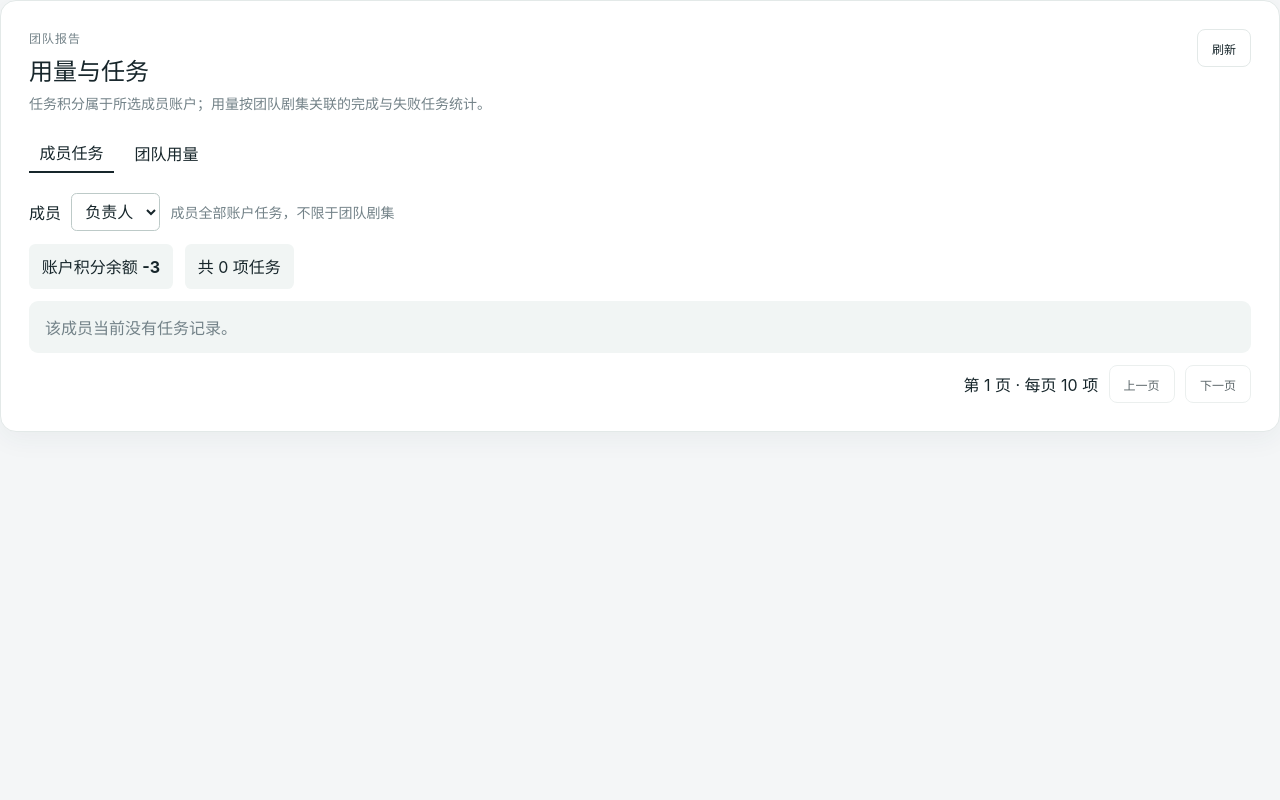
TeamReportingPanel › returns to the team-usage overview when its type tab is clicked from series or model detail
Click the tab "团队用量": click(167, 153) [124,134,209,172]
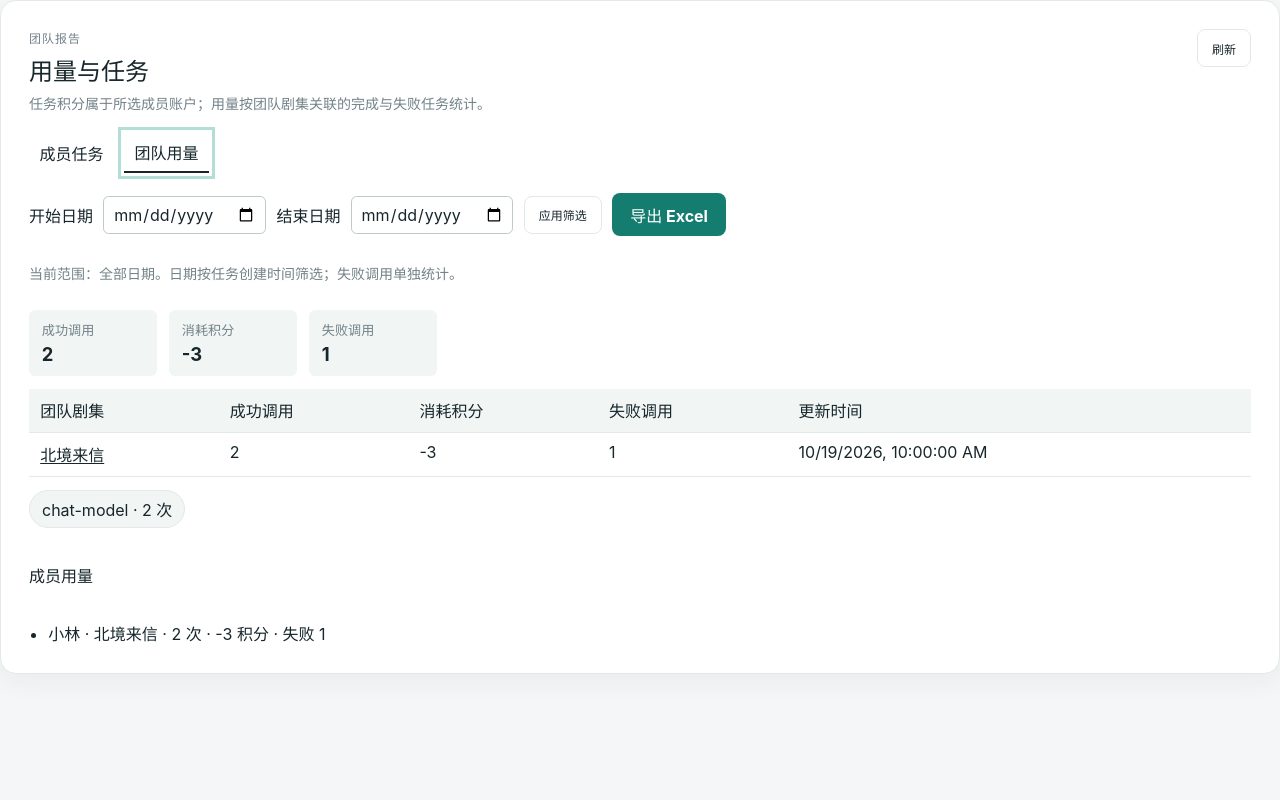
Expected: the table named "团队用量明细" is shown, [29,388,1251,477]
Click the button "北境来信": click(72, 454) [40,442,104,466]
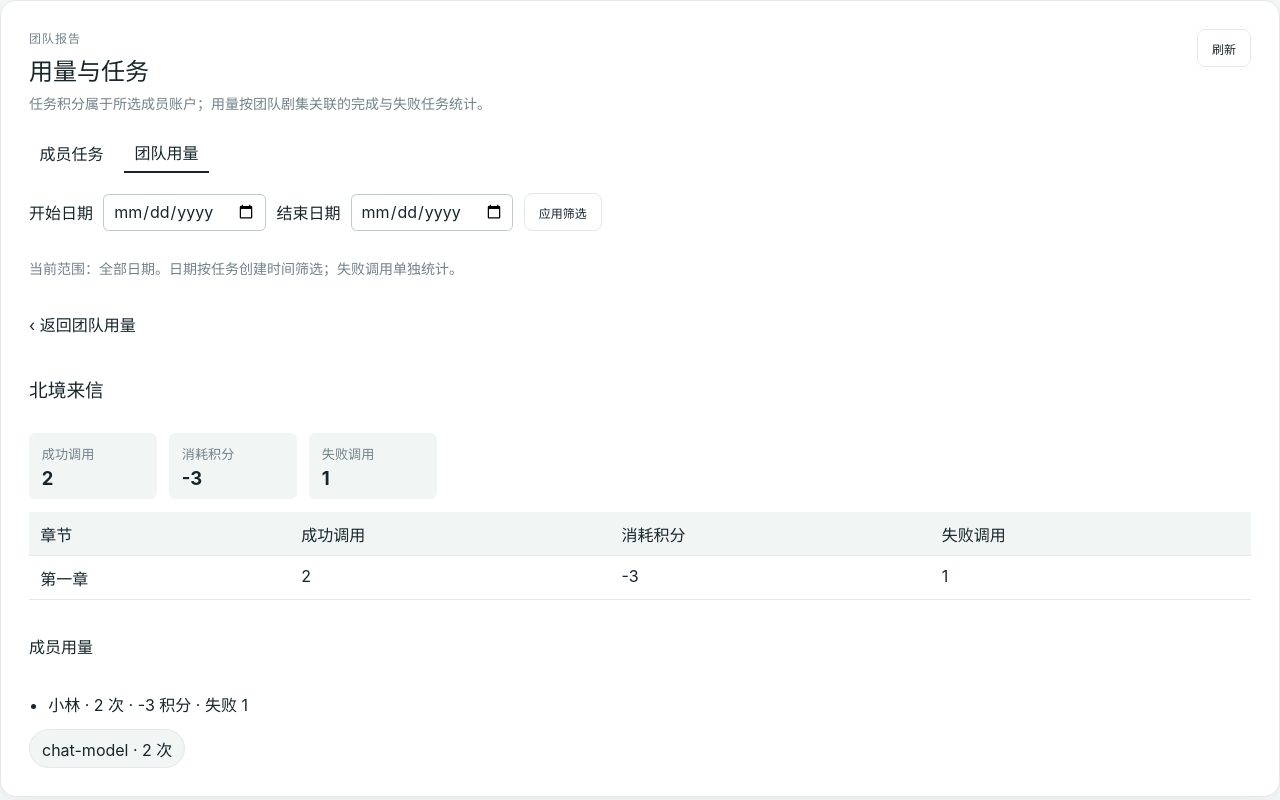
Expected: the heading "北境来信" is shown, [29,379,104,402]
Click the tab "团队用量": click(167, 153) [124,133,209,173]
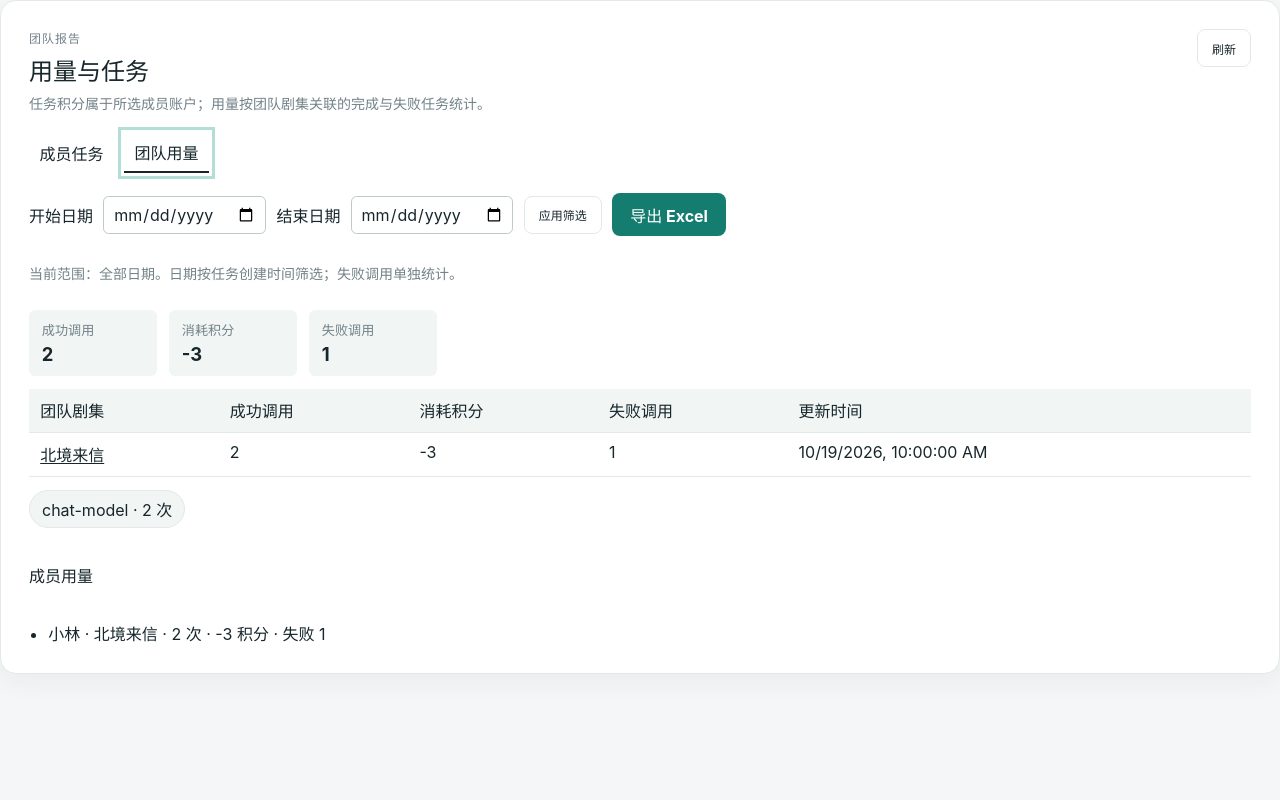
Expected: the table named "团队用量明细" is shown, [29,388,1251,477]
Click the button "北境来信": click(72, 454) [40,442,104,466]
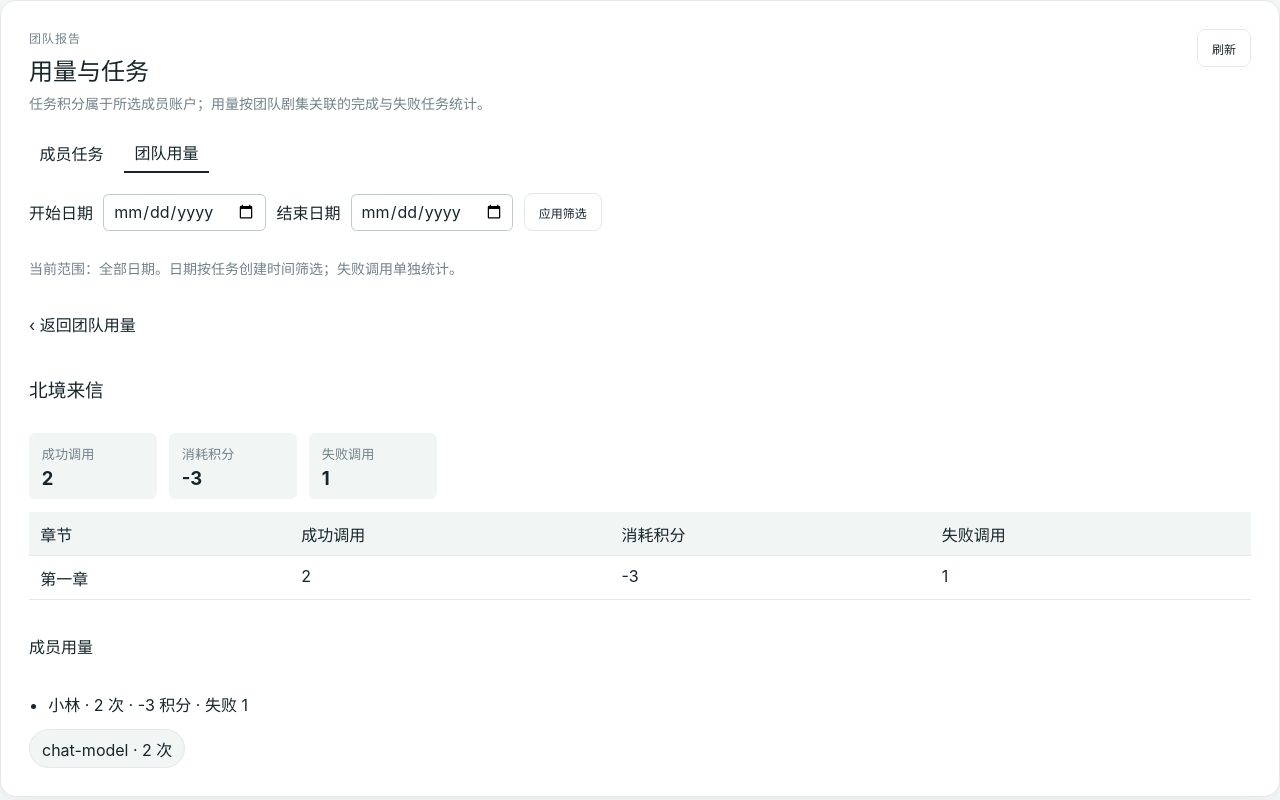
Expected: the heading "北境来信" is shown, [29,379,104,402]
Click the button "chat-model · 2 次": click(107, 749) [29,729,185,768]
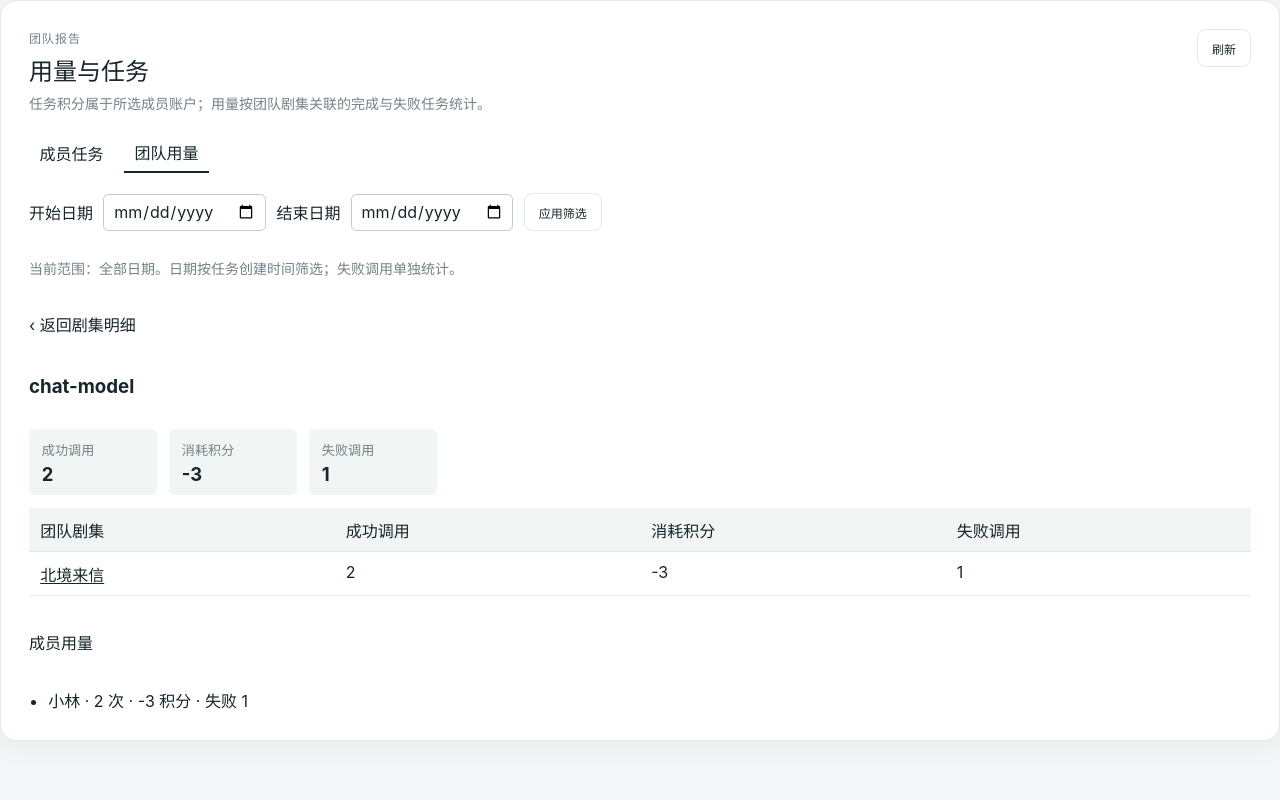
Expected: the heading "chat-model" is shown, [29,375,134,398]
Click the tab "团队用量": click(167, 153) [124,133,209,173]
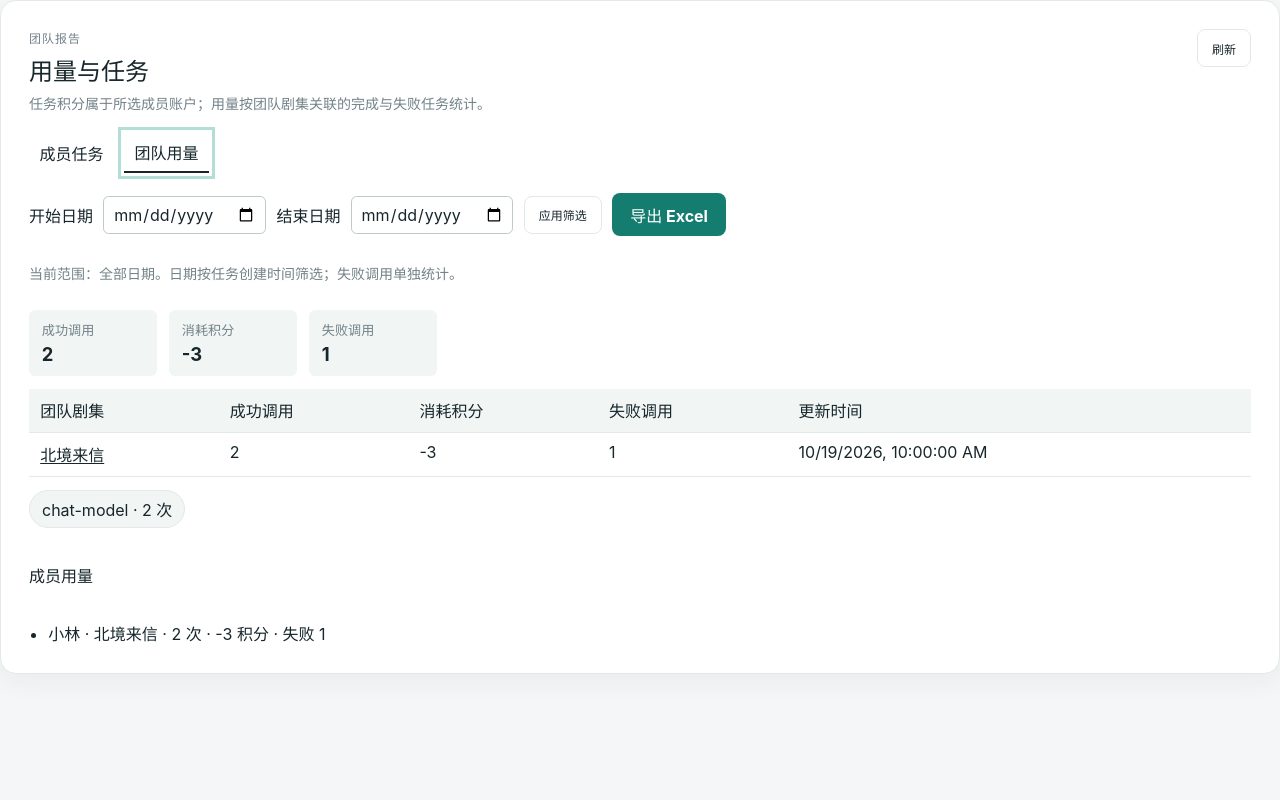
Expected: the table named "团队用量明细" is shown, [29,388,1251,477]
